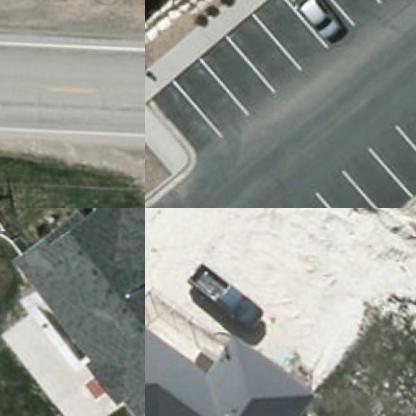car: (270, 0, 345, 47)
pickup: (178, 260, 266, 340)
